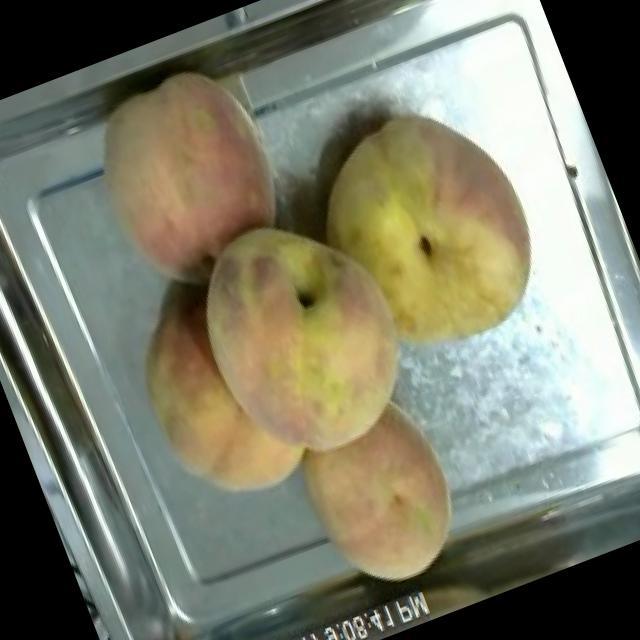Fruit: (107, 183, 446, 522), (284, 76, 573, 386), (63, 41, 314, 304), (278, 386, 490, 612)
